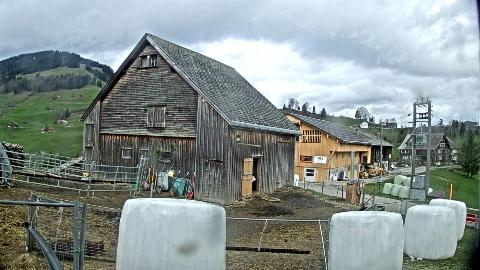car: (390, 162, 396, 172)
sheep: (37, 240, 105, 262), (252, 175, 256, 183)
